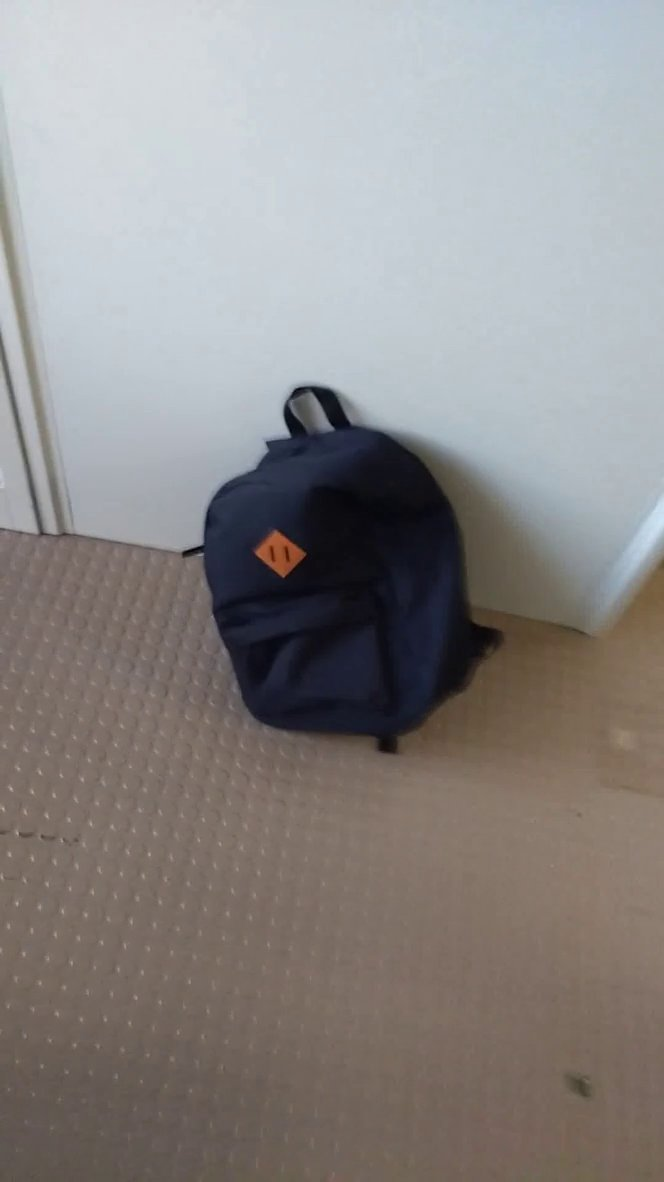bag: (171, 368, 518, 770)
